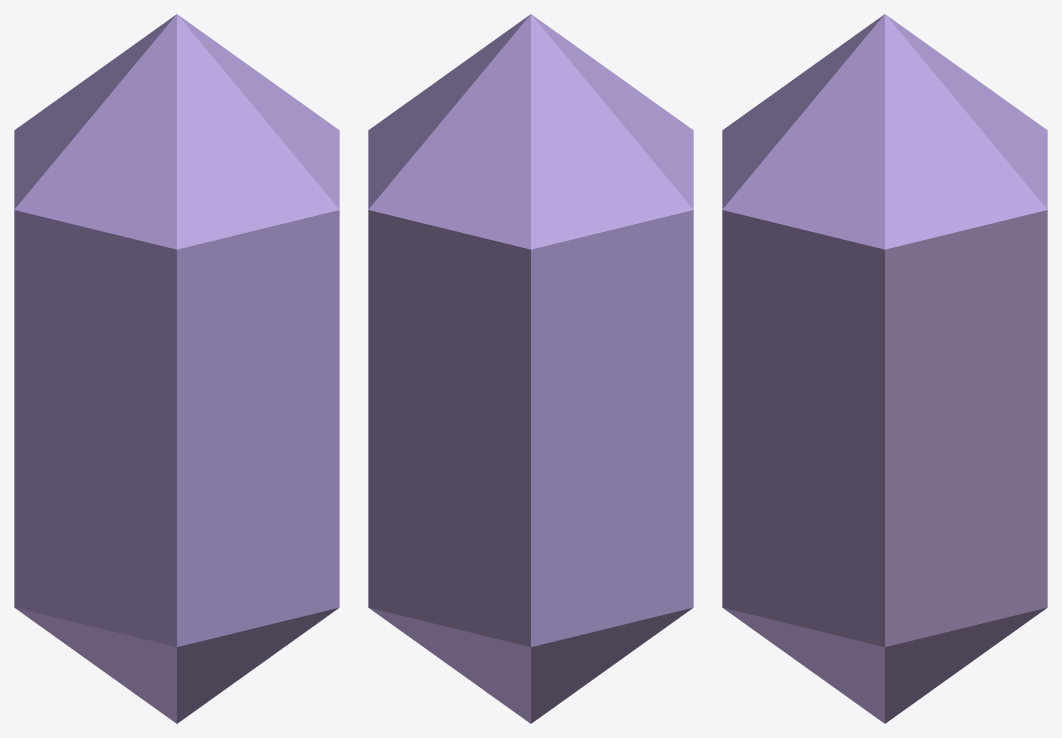
Rendered from crystal_2.glb.
3 views of the same model, side by side, from view 1: azimuth 30°, elevation 25°; view 2: azimuth 150°, elevation 25°; view 3: azimuth 270°, elevation 25° (orthographic).
Parts seen in each view (by area): view 1: gem; view 2: gem; view 3: gem.
Boxes of the visible parts, box(x1,y1,x2,y2) form: gem: box(14, 14, 339, 723); gem: box(368, 14, 693, 723); gem: box(722, 14, 1047, 723).
Size of the model in its own units: 0.024 by 0.05 by 0.0208.
